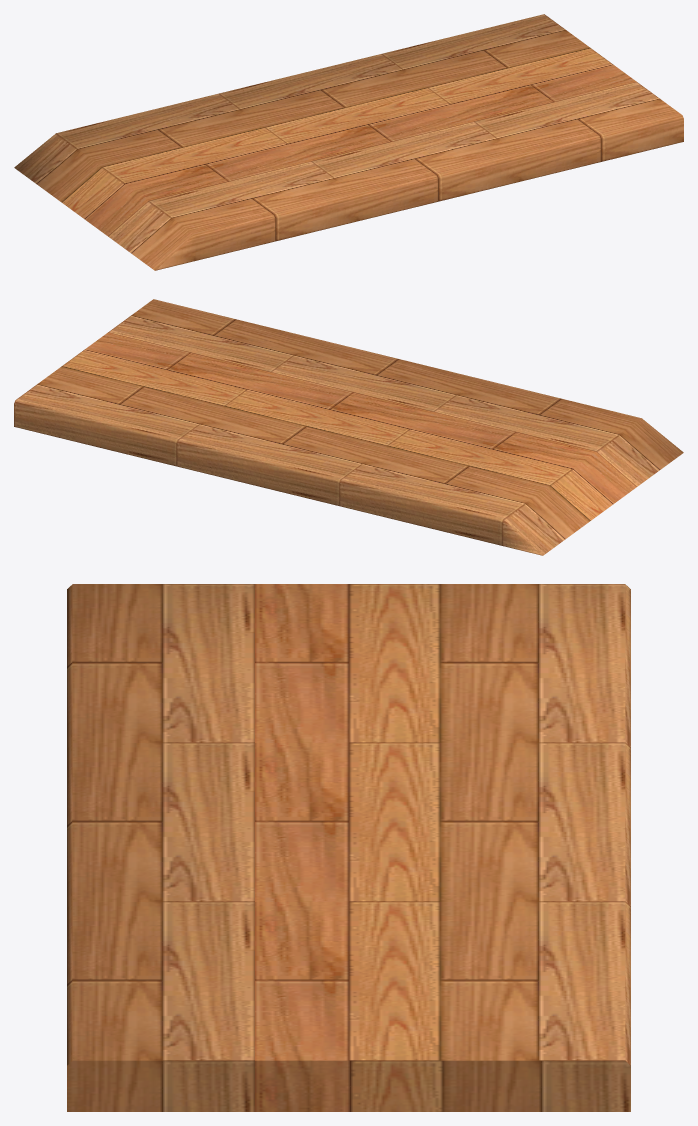
The picture shows the model from 3 angles, top to bottom: view 1: azimuth 30°, elevation 25°; view 2: azimuth 150°, elevation 25°; view 3: azimuth 270°, elevation 25°; orthographic projection. The views are drawn at different scales.
Visible parts, largest first — view 1: Joint_0_Object_0; view 2: Joint_0_Object_0; view 3: Joint_0_Object_0.
Part boxes in pixels (x1,y1,x2,y2): Joint_0_Object_0: (14, 14, 683, 270); Joint_0_Object_0: (14, 299, 683, 555); Joint_0_Object_0: (67, 584, 630, 1111).
Size of the model in its own units: 6500 by 300 by 3000.
1 material, 1 textured.
